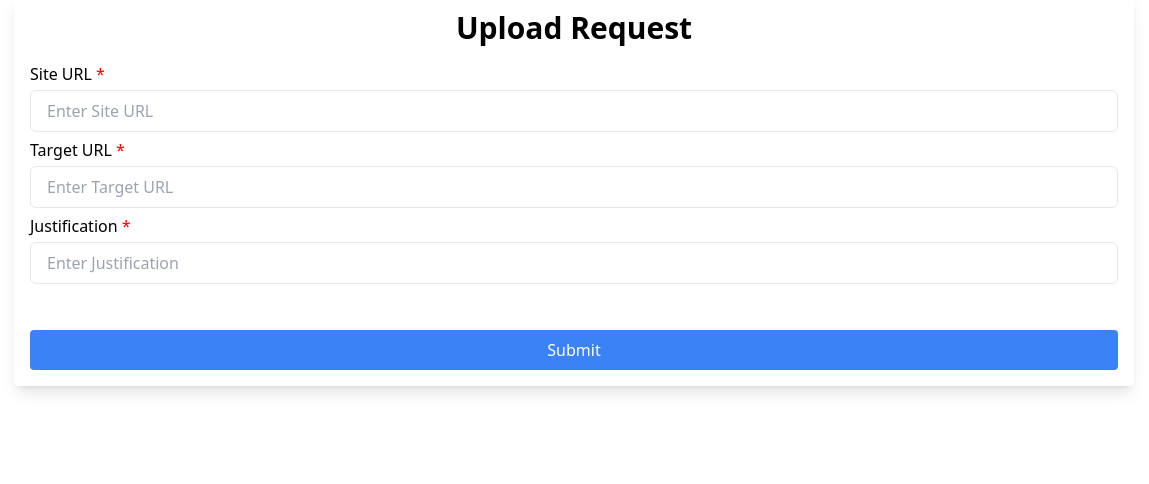
it: UploadRequest Component › shows validation errors for empty fields
This screenshot has width=1149, height=484.
Click the button "Submit". click: coordinates (574, 350)
box: [30,330,1118,370]
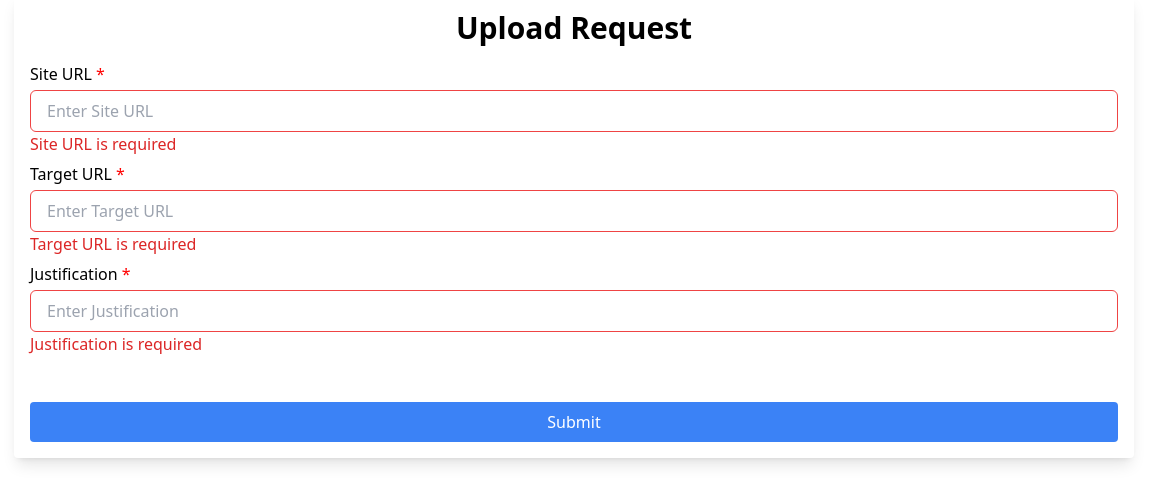
Expected: the text "Site URL is required" is shown, [30,133,176,155]
Expected: the text "Target URL is required" is shown, [30,233,196,255]
Expected: the text "Justification is required" is shown, [30,333,202,355]
